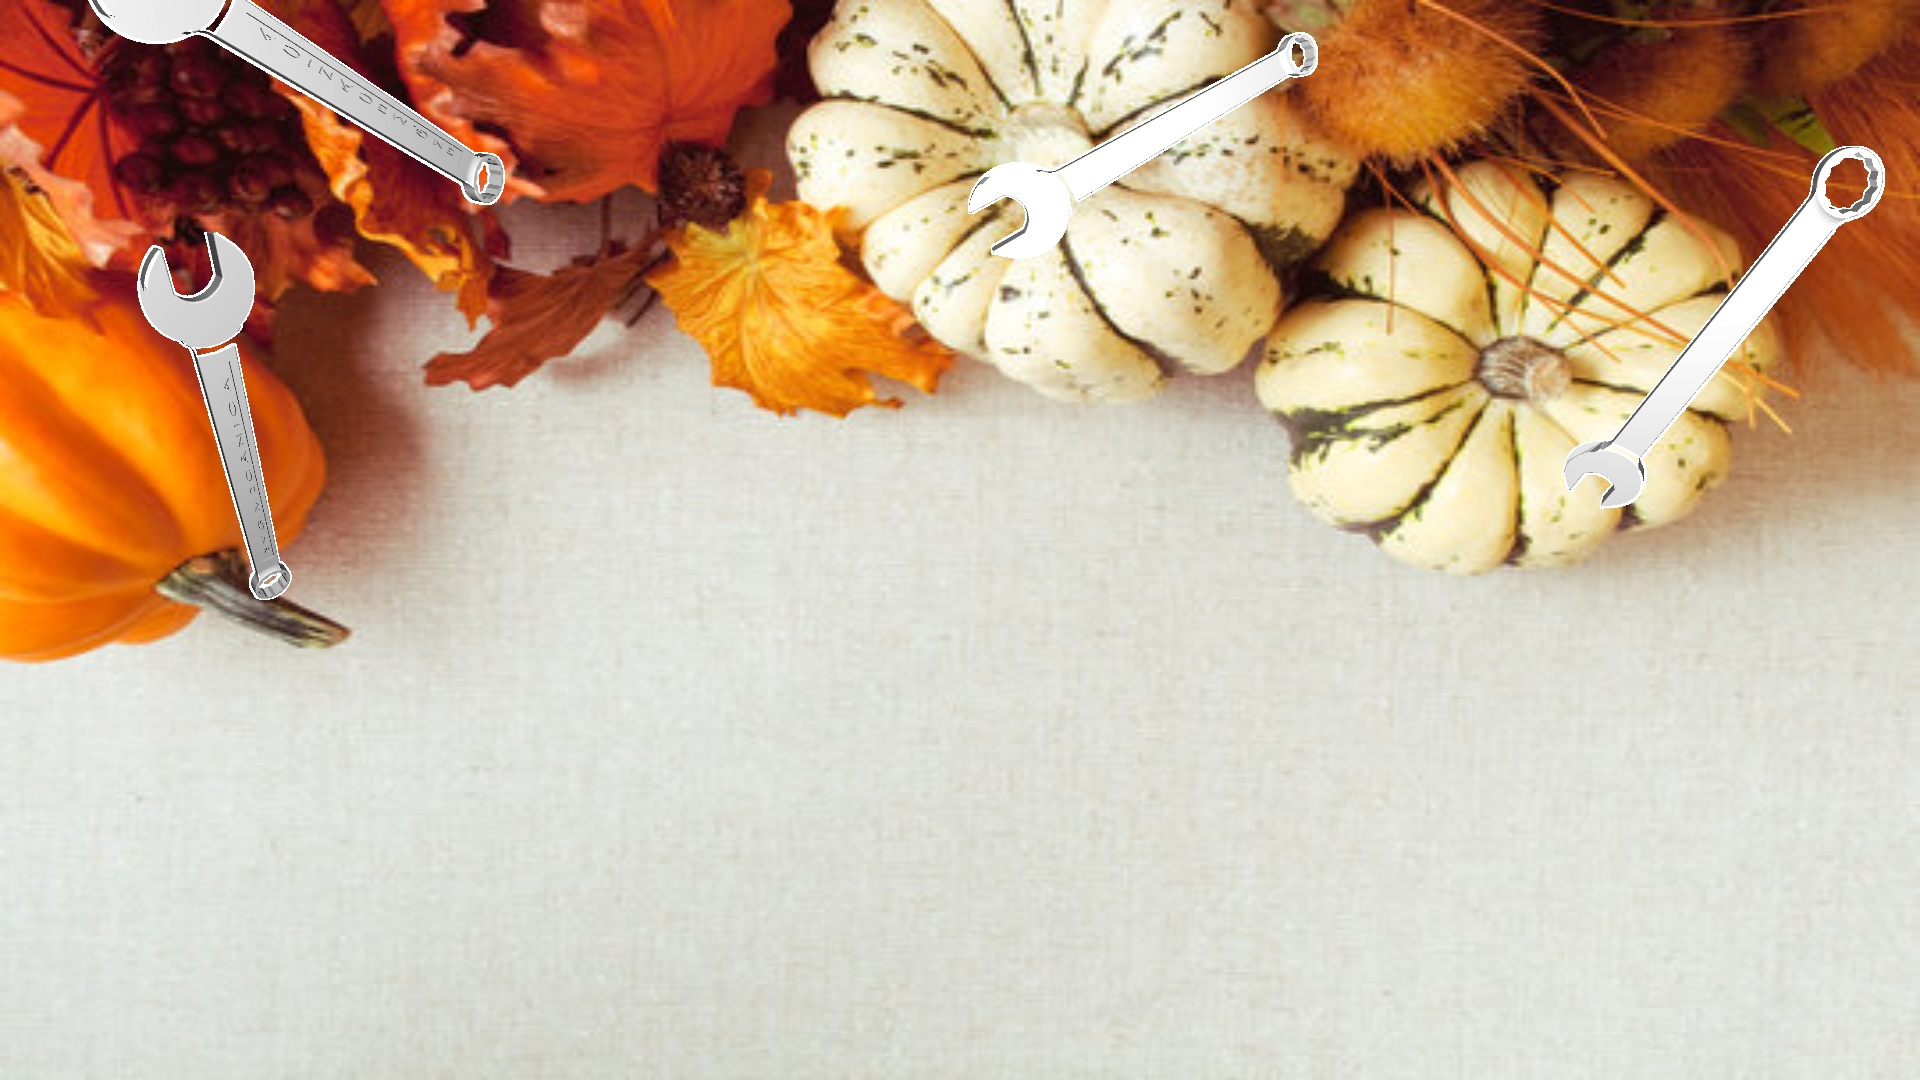Mixed Key: (1563, 146, 1884, 508), (88, 0, 504, 204), (968, 32, 1317, 258), (137, 232, 291, 599)
